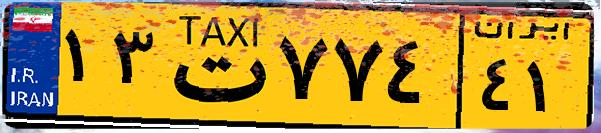1: (57, 26, 110, 100), (525, 38, 570, 115)
3: (110, 28, 158, 98)
4: (385, 28, 445, 110), (475, 38, 525, 113)
7: (270, 28, 330, 110), (330, 28, 385, 110)
ت: (158, 12, 270, 120)
